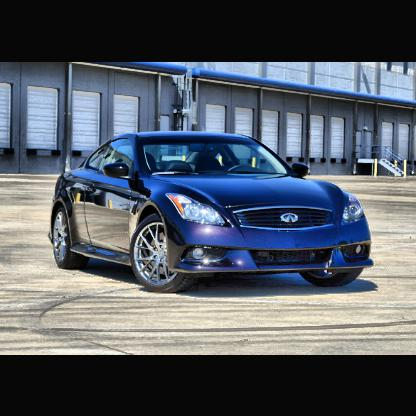Infiniti G Coupe IPL 2012: (48, 129, 377, 293)
